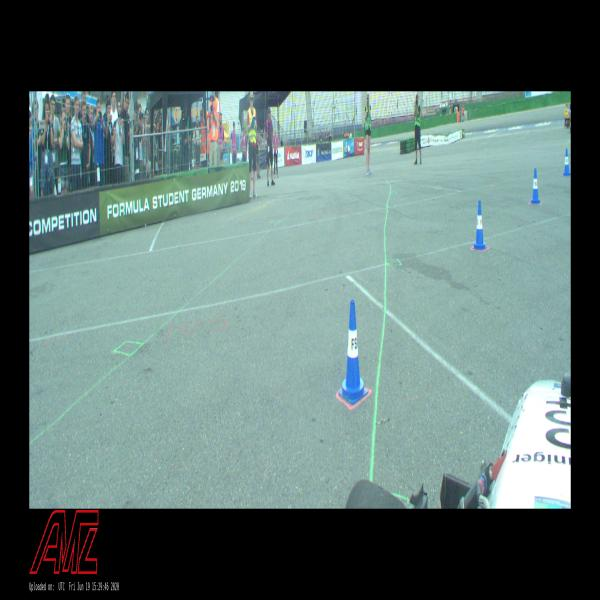blue_cone: (338, 299, 368, 404), (473, 200, 488, 250), (530, 168, 540, 204), (563, 149, 571, 176)
